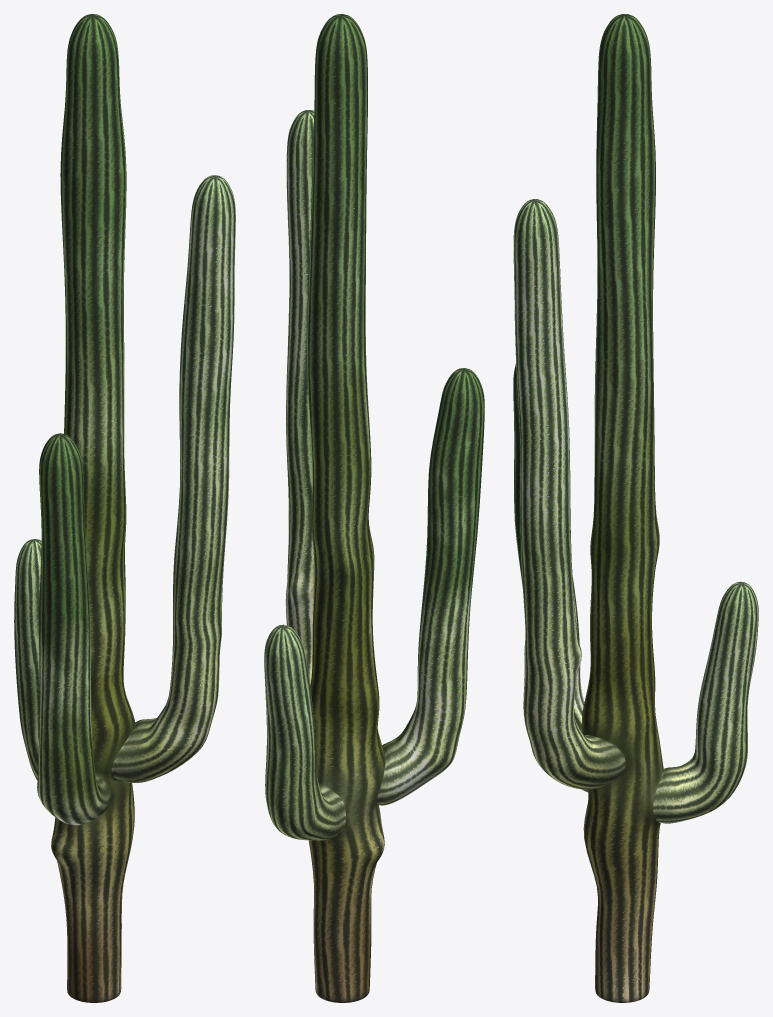
The model's file is 10436_Cactus_v1_max2010_it2.fbx.
3 views of the same model, side by side, from view 1: azimuth 30°, elevation 25°; view 2: azimuth 150°, elevation 25°; view 3: azimuth 270°, elevation 25° (orthographic).
Parts seen in each view (by area): view 1: 10436_Cactus_v1; view 2: 10436_Cactus_v1; view 3: 10436_Cactus_v1.
Part boxes in pixels (x1,y1,x2,y2): 10436_Cactus_v1: [14, 14, 235, 1002]; 10436_Cactus_v1: [264, 14, 484, 1002]; 10436_Cactus_v1: [513, 14, 758, 1002].
Size of the model in its own units: 51.26 by 250 by 56.9.
1 material, 1 textured.
